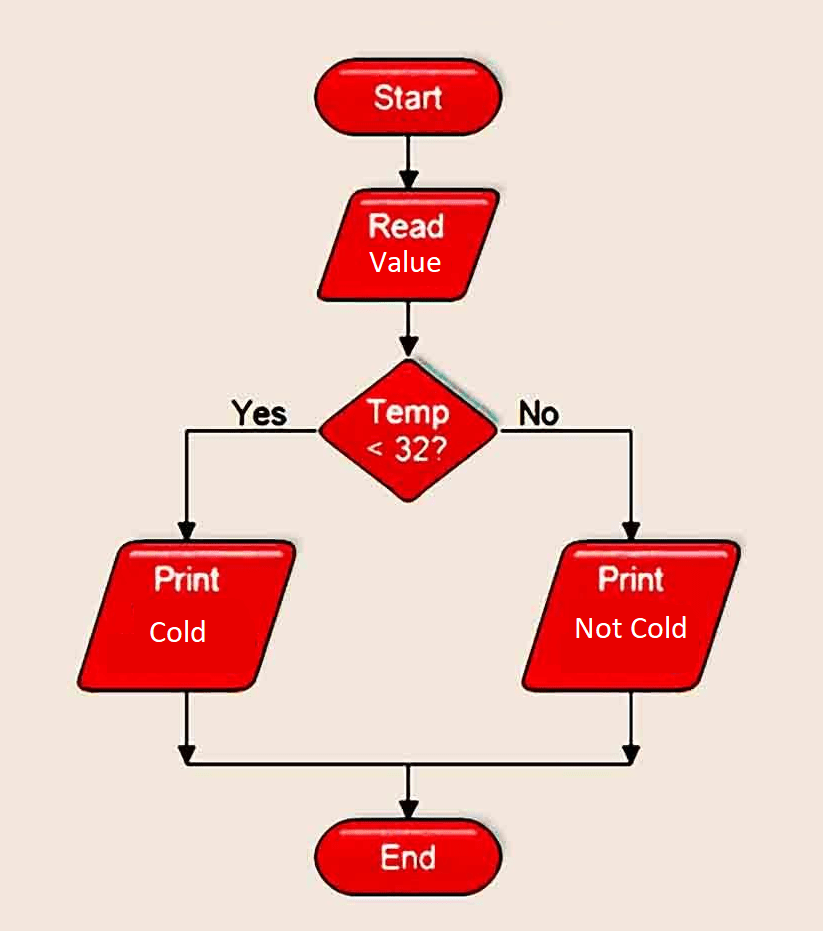arrow: (496, 422, 646, 545), (175, 426, 325, 545), (184, 755, 423, 824), (396, 755, 634, 820), (394, 292, 423, 361), (396, 133, 426, 192), (620, 685, 640, 767), (177, 685, 196, 761)
data: (75, 537, 299, 698), (519, 538, 741, 699)
decision: (317, 358, 505, 506)
terminator: (309, 53, 506, 140), (308, 814, 506, 900)
text: (571, 562, 696, 645), (146, 558, 230, 645), (358, 393, 453, 468), (364, 209, 448, 275), (371, 81, 451, 117), (377, 838, 439, 875), (227, 396, 288, 431), (513, 396, 564, 430)
